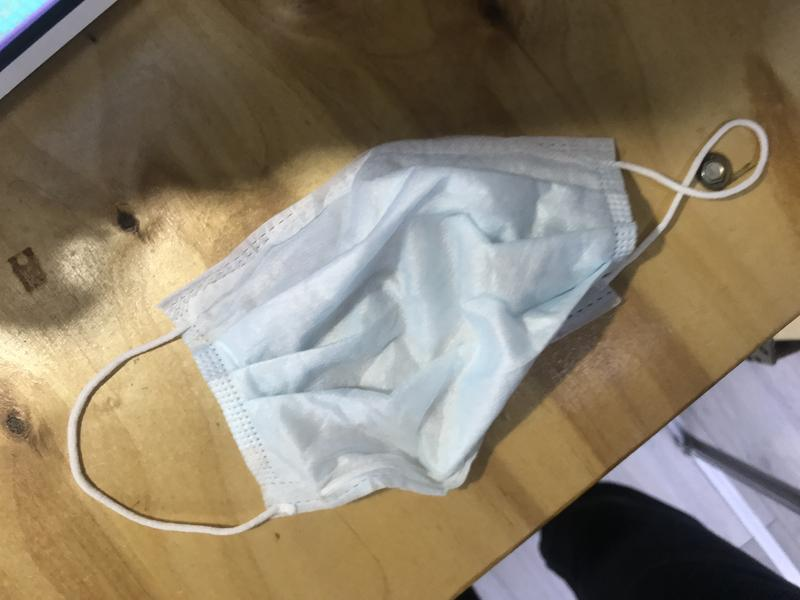medical_mask: (71, 135, 678, 532)
